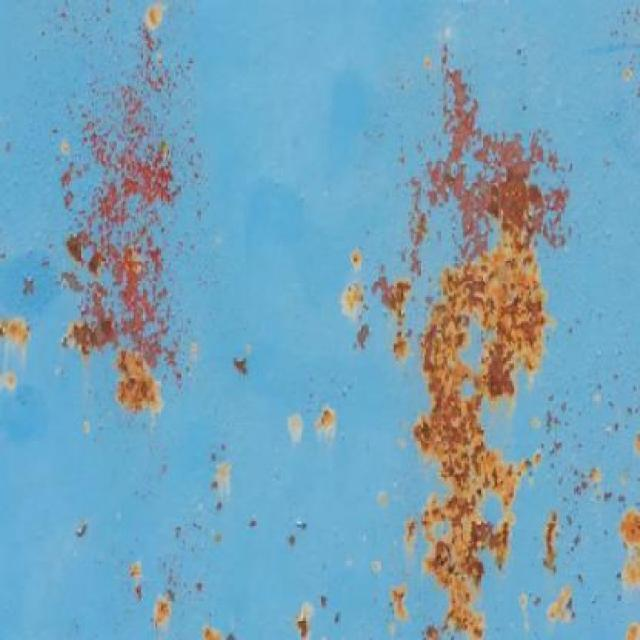Corrosion: (0, 0, 639, 639), (340, 39, 574, 639), (53, 0, 204, 415)
